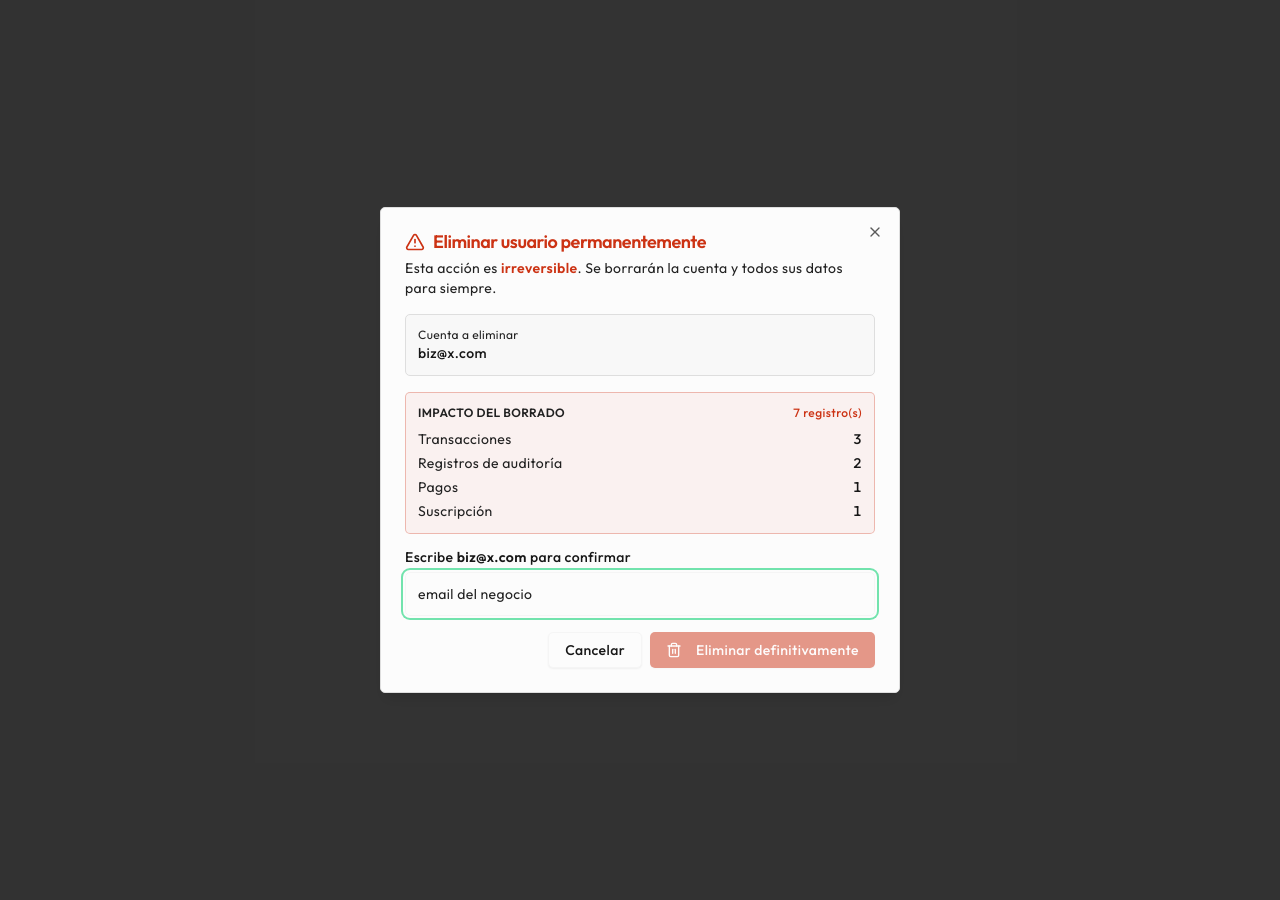
ConfirmDeleteUserDialog › acepta el email con espacios y mayúsculas (normalizado)
Type "  BIZ@X.COM  " into the field with placeholder "email del negocio" at (640, 594), box [405, 572, 875, 616]
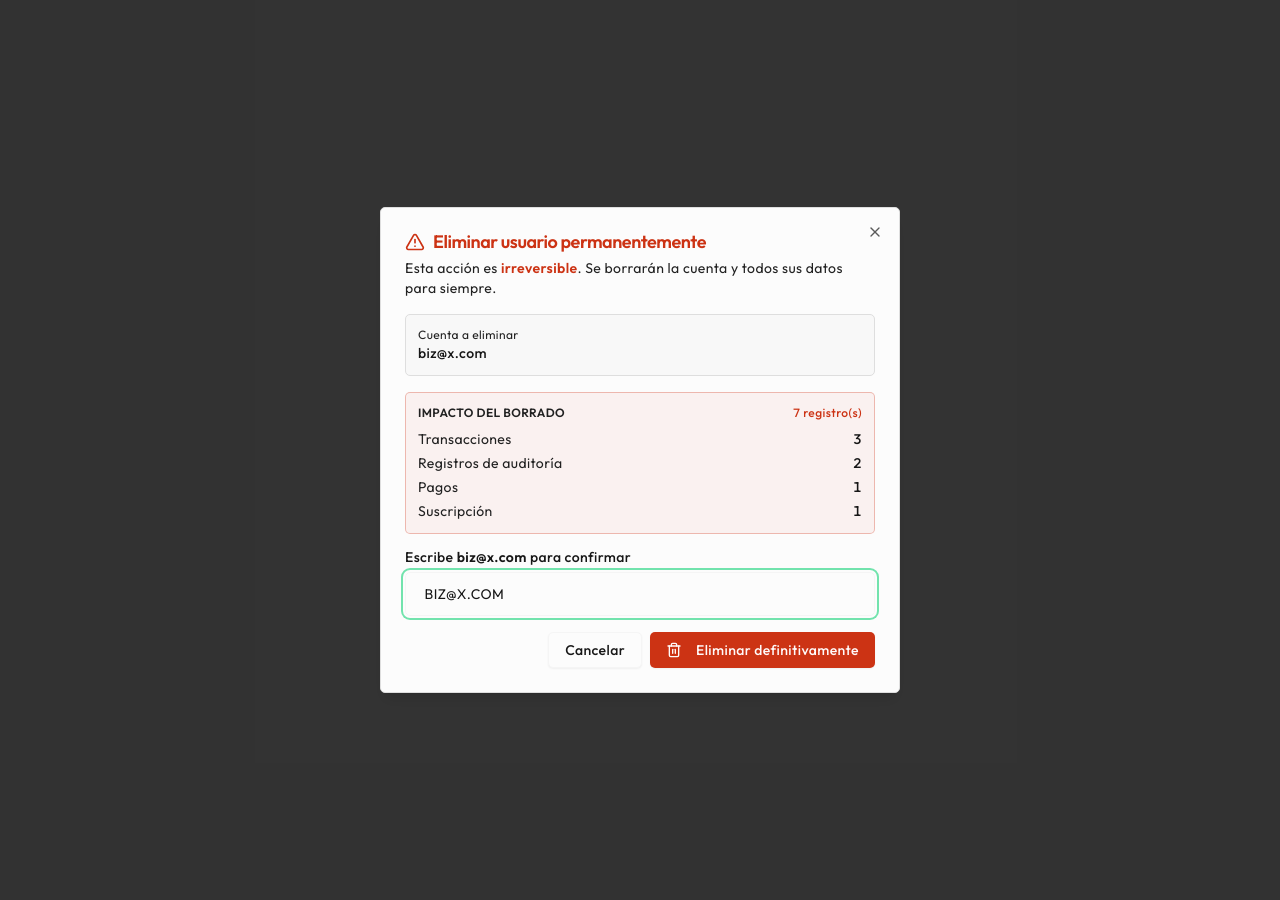
Expected: the button "Eliminar definitivamente" is enabled, [650, 632, 875, 668]
